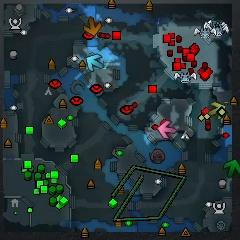x1: (158, 120, 176, 138)
x2: (210, 101, 225, 119)
x3: (86, 54, 103, 71)
x4: (225, 159, 240, 177)
x5: (83, 17, 101, 35)
